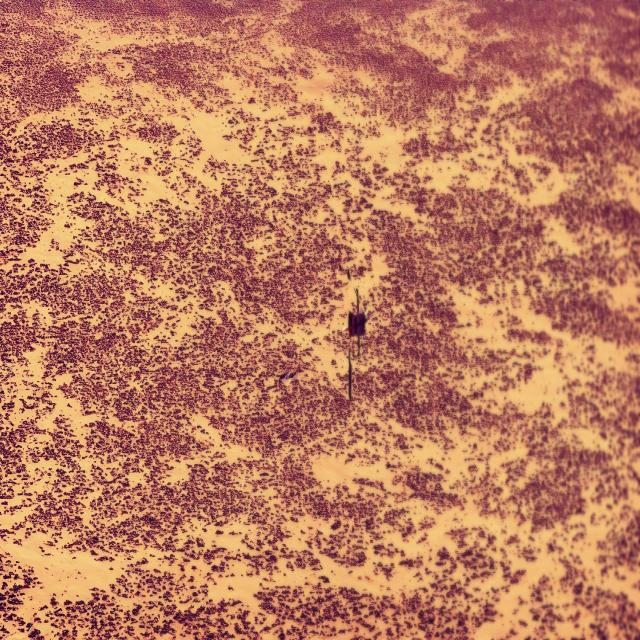airplane: (348, 285, 367, 396)
